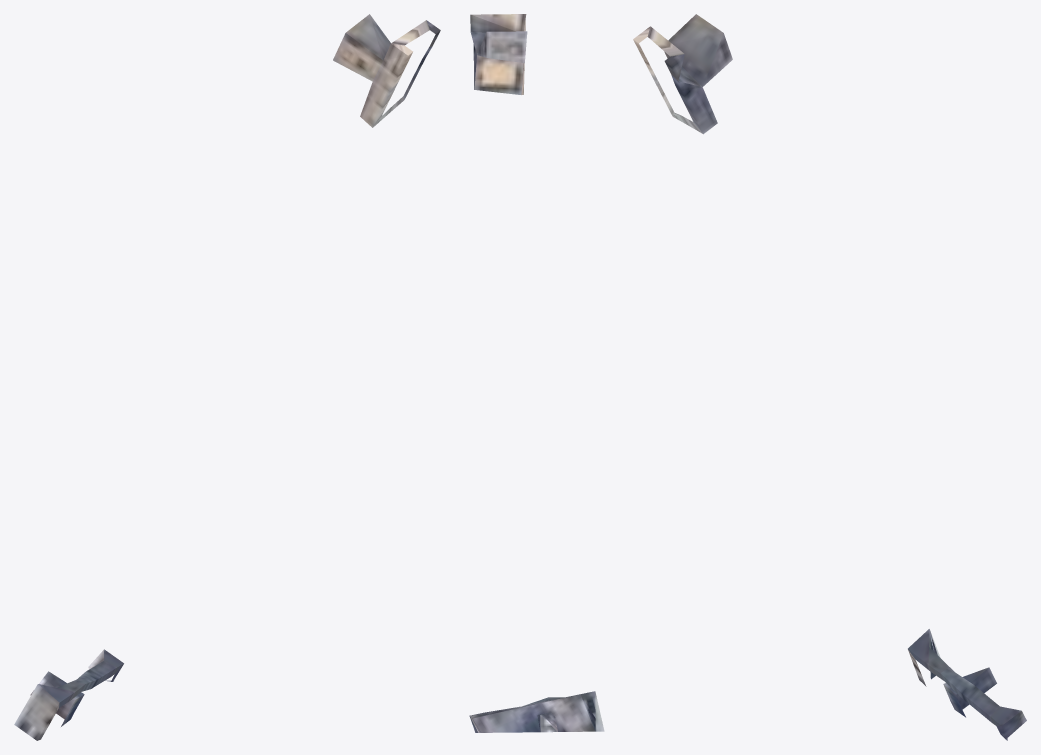
The picture shows the model from 3 angles, left to right: view 1: azimuth 30°, elevation 25°; view 2: azimuth 150°, elevation 25°; view 3: azimuth 270°, elevation 25°; orthographic projection. The views are drawn at different scales.
Bounding box in the file's own units: 58.67 × 141 × 64.83.
1 material, 1 textured.
